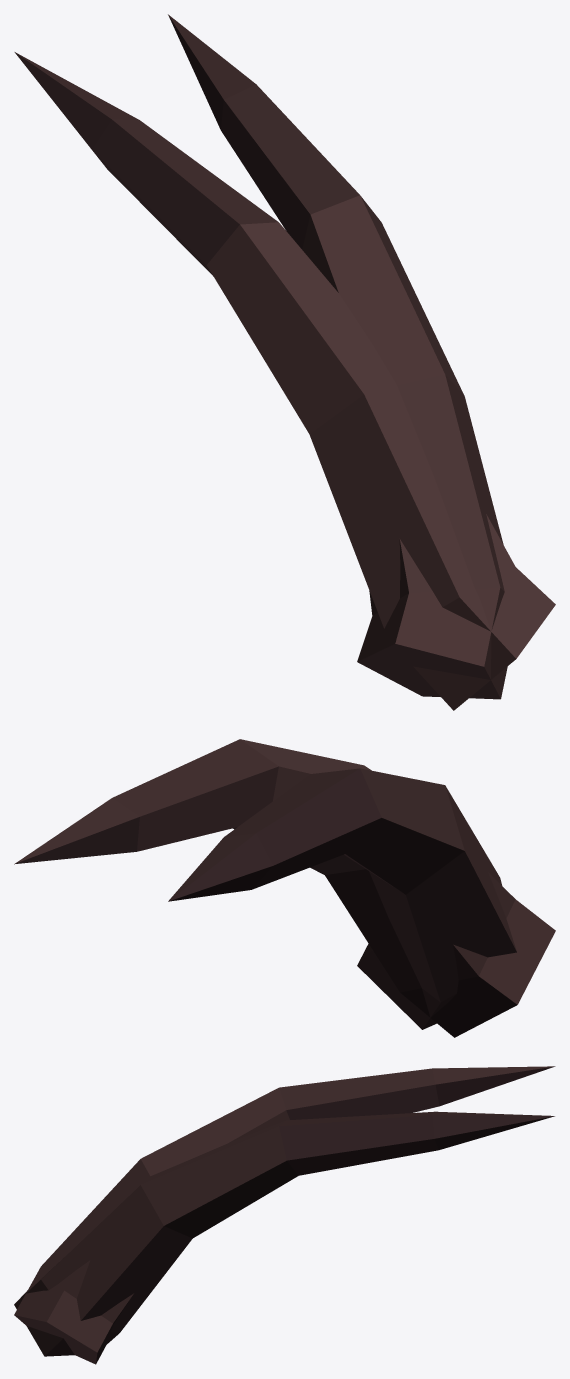
The model's file is horns_ip_swept.glb.
3 renders of one model, top to bottom at view 1: azimuth 30°, elevation 25°; view 2: azimuth 150°, elevation 25°; view 3: azimuth 270°, elevation 25°, orthographic. The views are drawn at different scales.
Parts seen in each view (by area): view 1: Horn_R, Horn_L; view 2: Horn_R, Horn_L; view 3: Horn_L, Horn_R.
Part boxes in pixels (x1,y1,x2,y2): Horn_R: [14, 52, 555, 710]; Horn_L: [168, 14, 507, 699]; Horn_R: [168, 768, 516, 1029]; Horn_L: [14, 739, 555, 1037]; Horn_L: [14, 1111, 554, 1356]; Horn_R: [14, 1066, 555, 1364].
Bounding box in the file's own units: 0.0228 × 0.0486 × 0.0889.
Materials: 1 (1 with a texture image).
